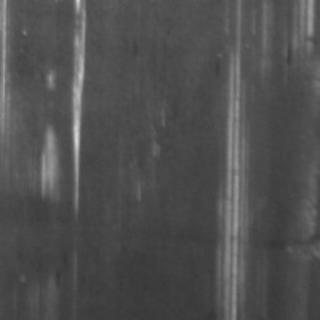scratches: (208, 42, 254, 318), (62, 1, 90, 218)
